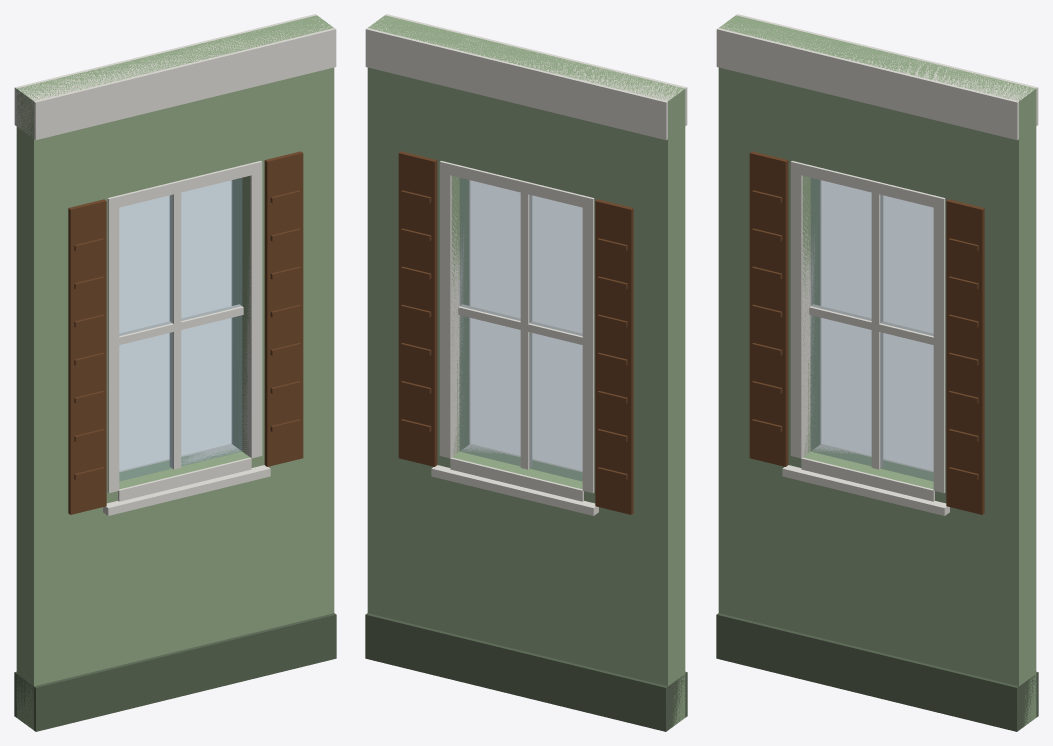
File: mod-reboco-verde-janela.gltf
3 renders of one model, left to right at view 1: azimuth 30°, elevation 25°; view 2: azimuth 150°, elevation 25°; view 3: azimuth 330°, elevation 25°, orthographic.
Parts seen in each view (by area): view 1: mod-reboco-verde-janela; view 2: mod-reboco-verde-janela; view 3: mod-reboco-verde-janela.
Boxes of the visible parts, box(x1,y1,x2,y2) form: mod-reboco-verde-janela: box(14, 14, 336, 731); mod-reboco-verde-janela: box(365, 14, 687, 731); mod-reboco-verde-janela: box(716, 14, 1038, 731).
Size of the model in its own units: 1 by 2 by 0.16.
